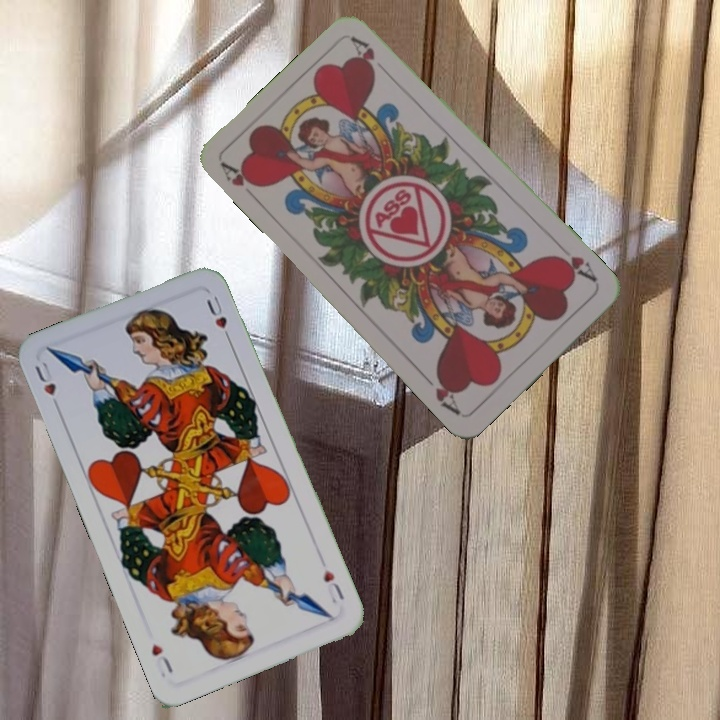HA: (218, 159, 265, 205), (549, 250, 600, 285)
HU: (30, 357, 63, 414), (319, 565, 347, 606)
